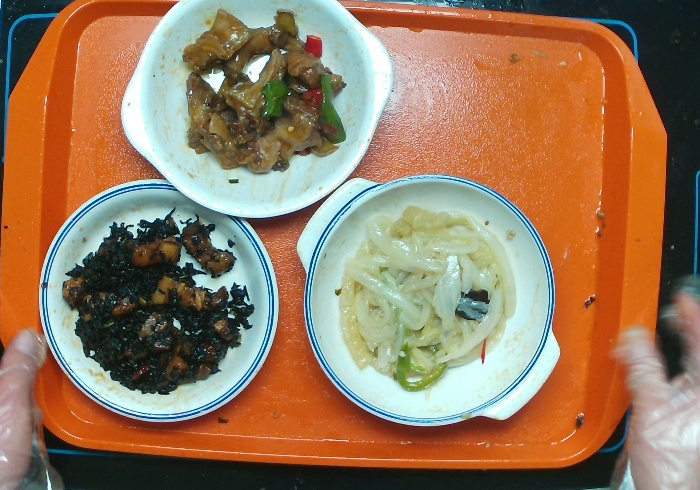HZYJPL-Dai_Er_Bai_Yuan_Wan: (118, 1, 395, 219)
HZYJPL-Lan_Bian_Dai_Er_Wan: (294, 173, 562, 427)
HZYJPL-Lan_Bian_Yuan_Die: (36, 176, 280, 424)
